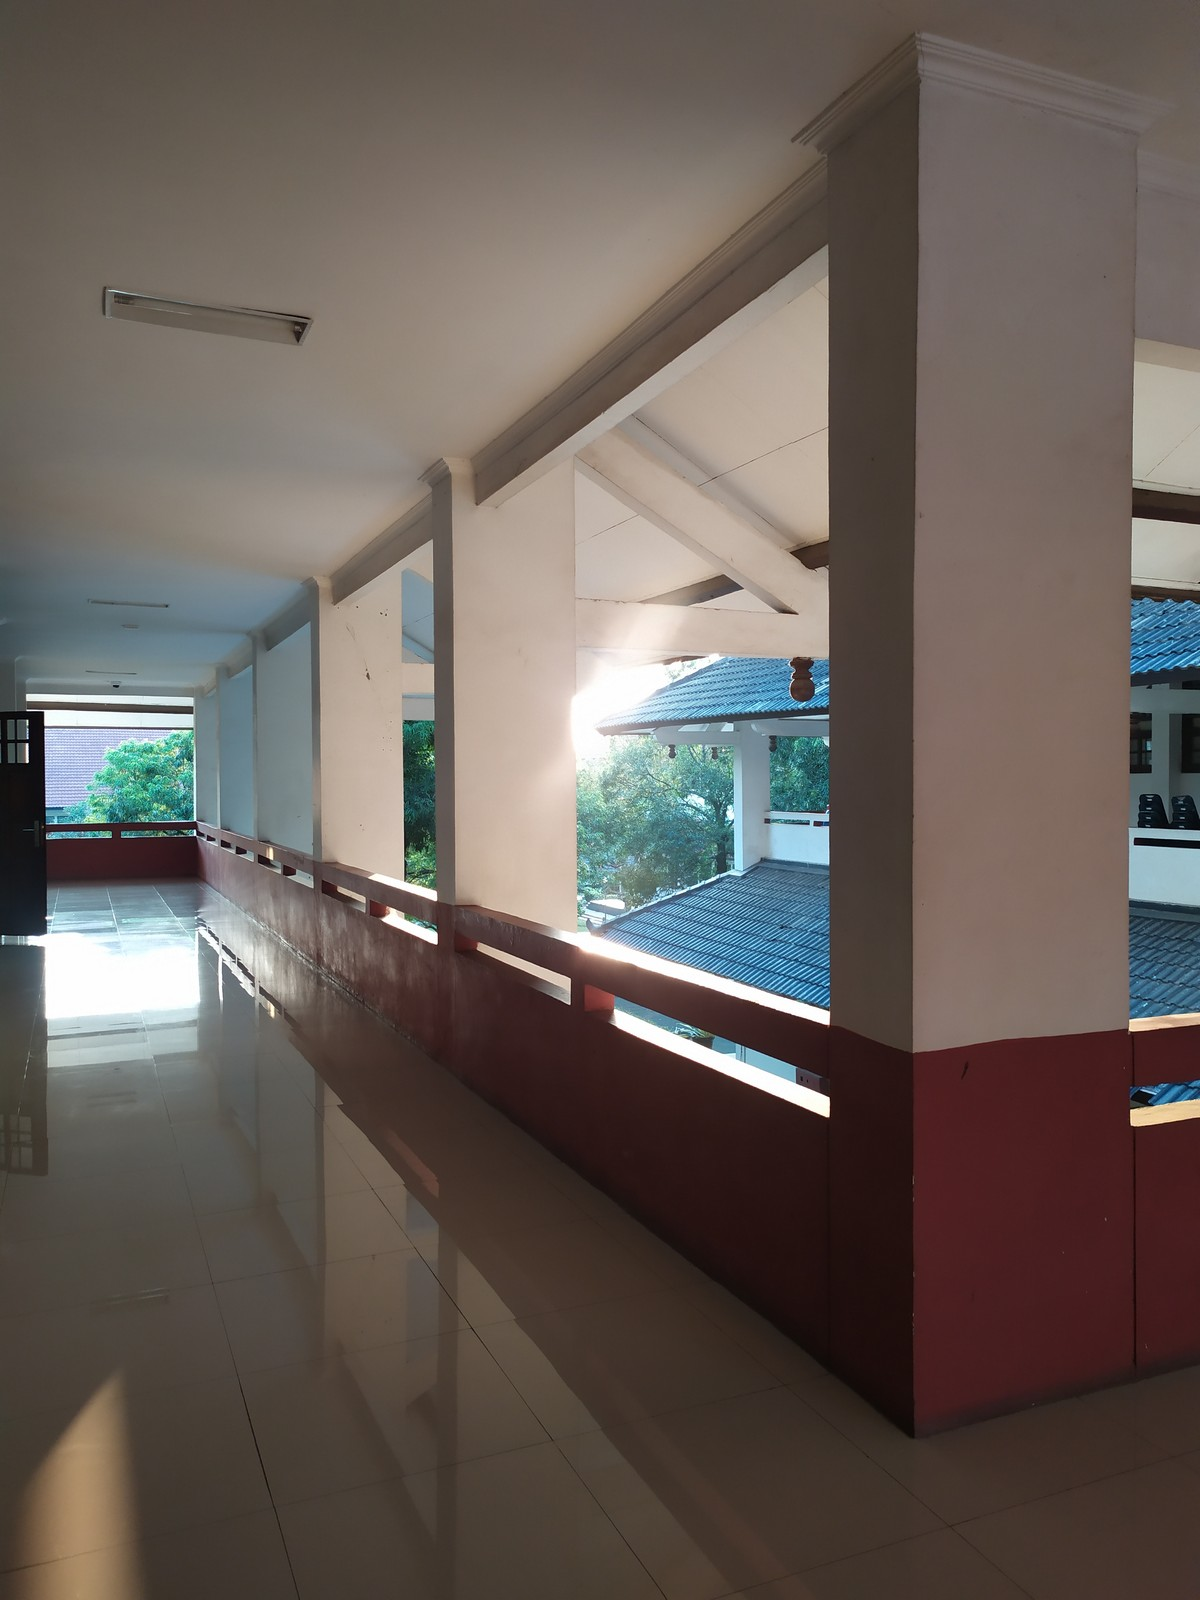concrete beam: (567, 591, 792, 671)
concrete column: (808, 53, 1145, 1422), (424, 459, 594, 951), (301, 569, 417, 882)
